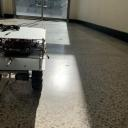cart: (0, 27, 47, 91)
